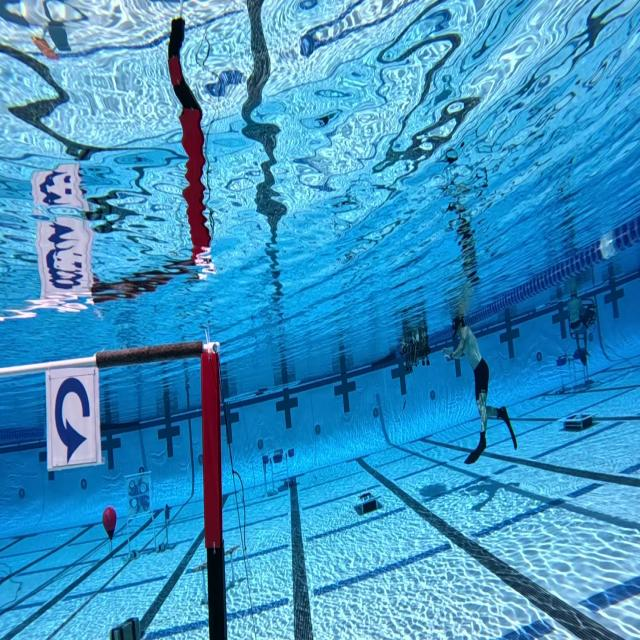blue_side: (48, 360, 98, 474)
